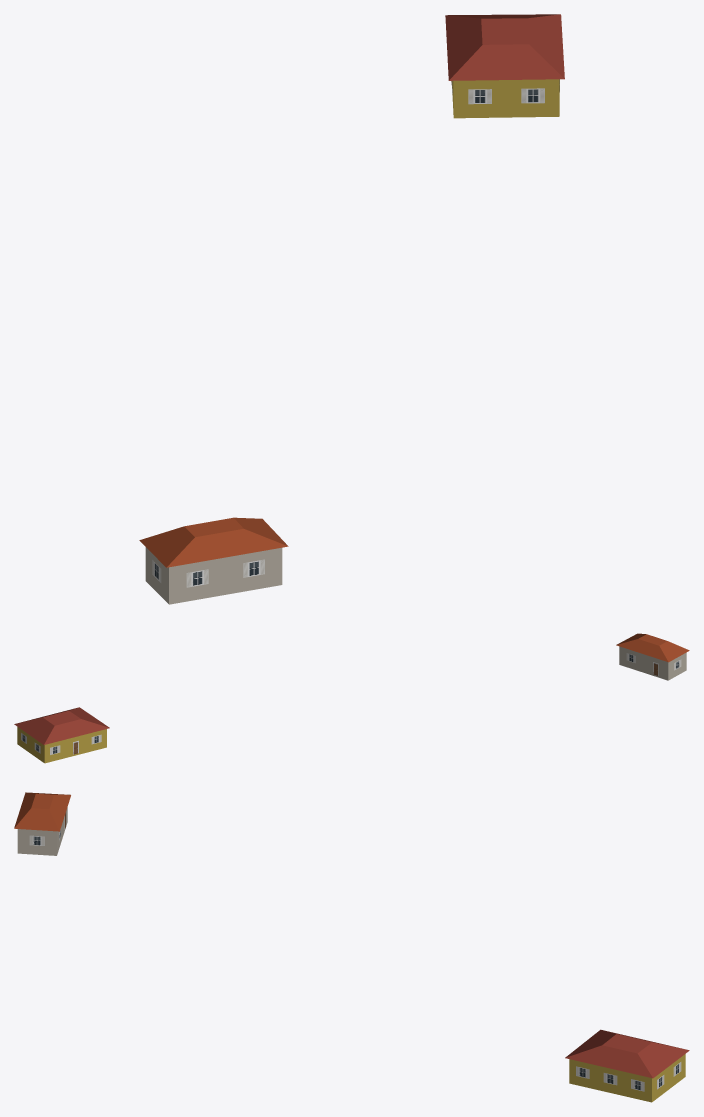
The model's file is msb_sannicolas_12_22.glb.
3 renders of one model, top to bottom at view 1: azimuth 30°, elevation 25°; view 2: azimuth 150°, elevation 25°; view 3: azimuth 270°, elevation 25°, orthographic. The views are drawn at different scales.
Visible parts, largest first — view 1: msb_sannicolas_12_22_lod0; view 2: msb_sannicolas_12_22_lod0; view 3: msb_sannicolas_12_22_lod0.
Boxes of the visible parts, x1,y1,x2,y2 form: msb_sannicolas_12_22_lod0: (139, 14, 564, 604); msb_sannicolas_12_22_lod0: (14, 633, 689, 763); msb_sannicolas_12_22_lod0: (14, 792, 689, 1102).
Size of what is drawn, in the model's own units: 80.69 by 5.78 by 82.49.
2 materials, 1 textured.
